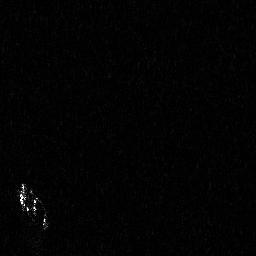ship: (16, 179, 51, 232)
